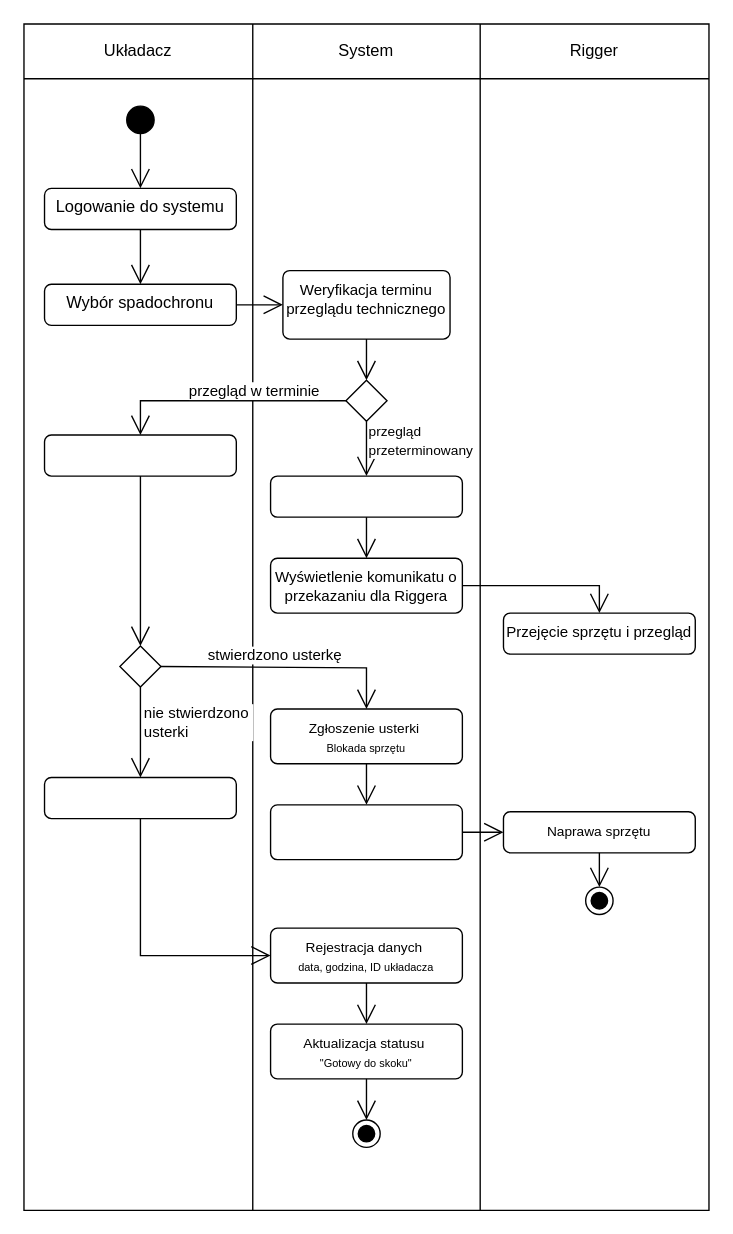
Some shapes in this 733 by 1234 pixel diagram are drawn without their labels. The shapes that lost their labels are listed below. From the top down, each one's centre as x and y in pixels, then its label:
[139,455]: Fizyczne układanie czaszy
[365,496]: Odmowa rejestracji
[139,797]: Wprowadzenie potwierdzenia
[365,832]: Status: "W naprawie" Zapis w systemie
